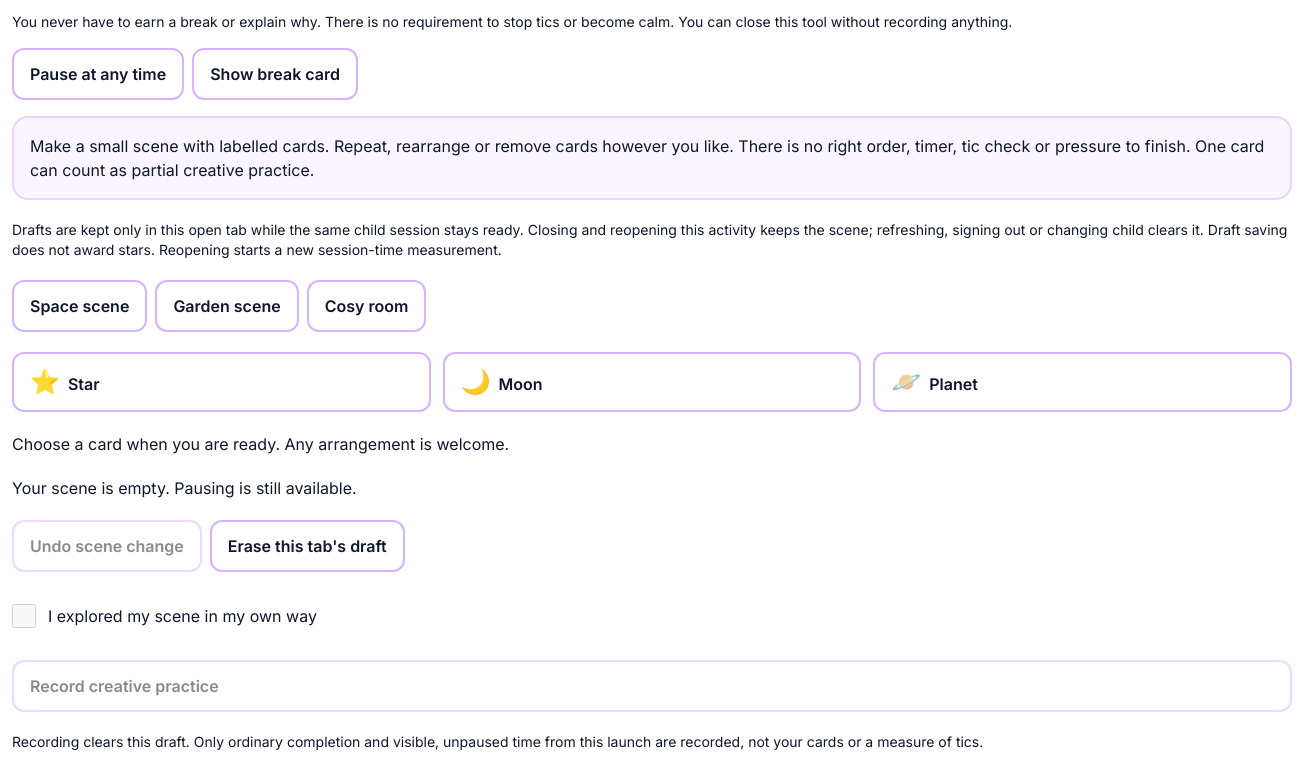
Test: scene changes clear the old layout and undo can restore it without restoring its review
Click the button with aria-label "Add Star".
click(84, 384)  # box x1=12 y1=352 x2=431 y2=412
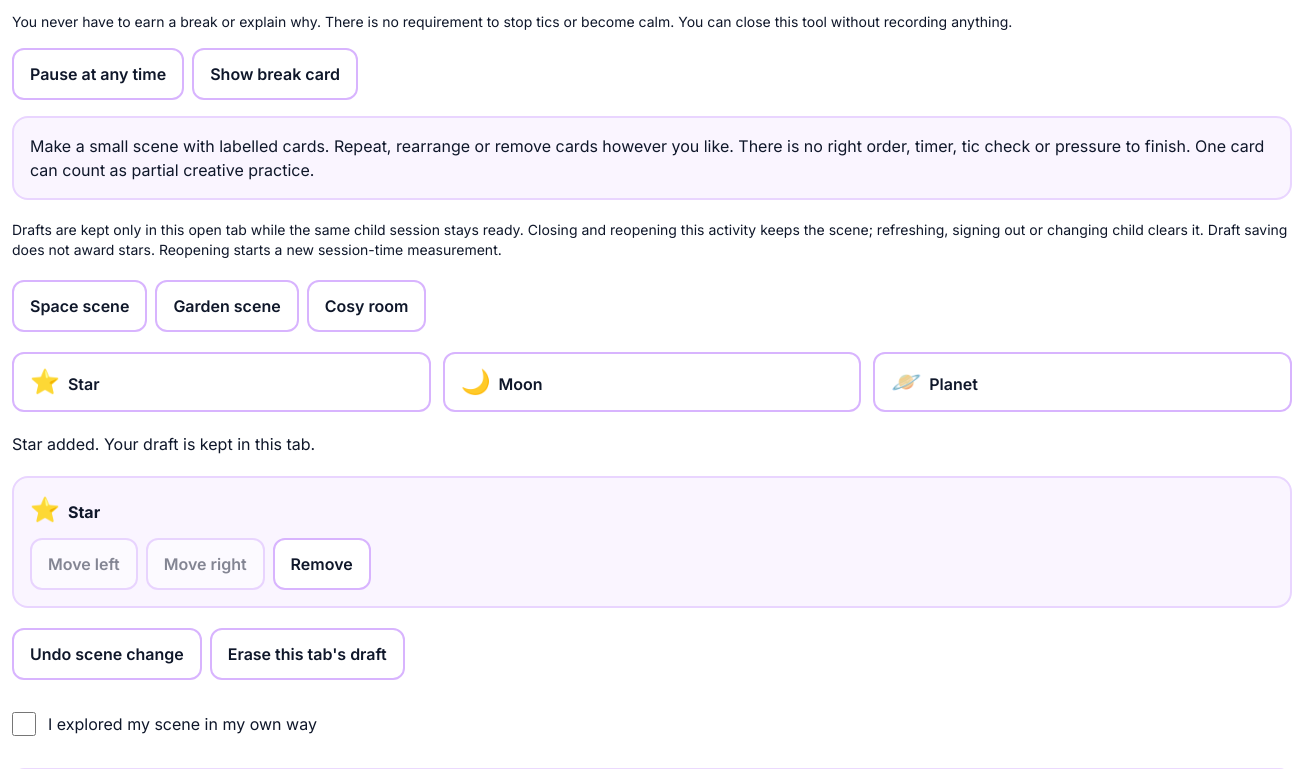
Click the checkbox.
click(24, 724)  # box x1=12 y1=712 x2=36 y2=736
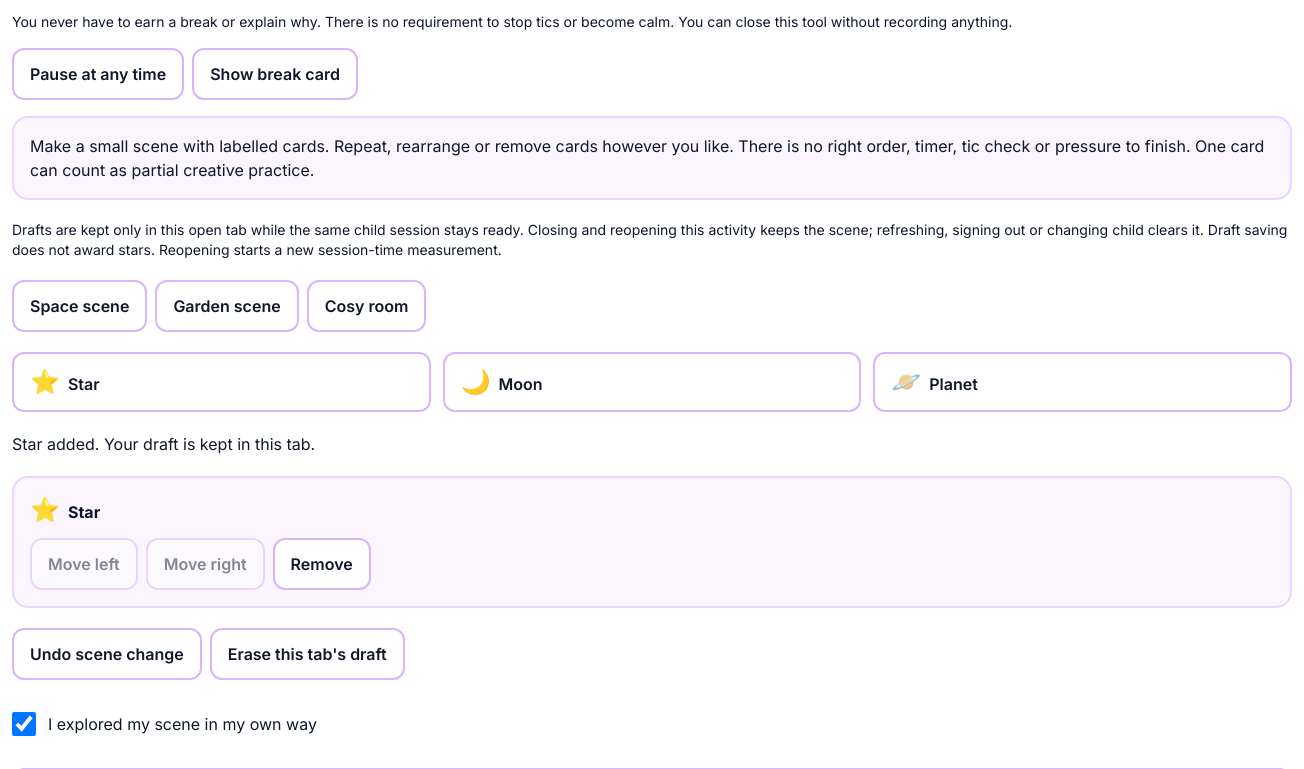
Click the button "Garden scene".
click(227, 306)  # box x1=155 y1=280 x2=299 y2=332
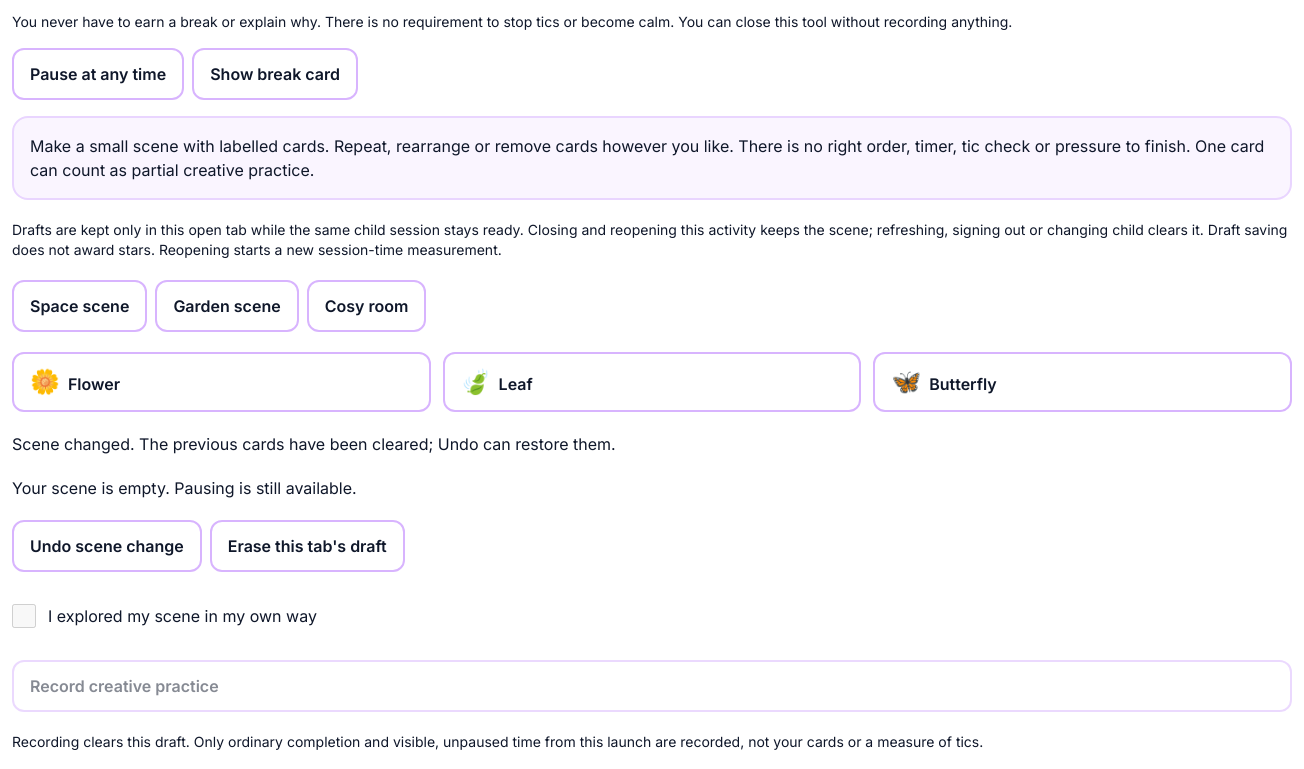
Check: the checkbox is disabled, box x1=12 y1=604 x2=36 y2=628
Click the button "Undo scene change".
click(107, 546)  # box x1=12 y1=520 x2=202 y2=572
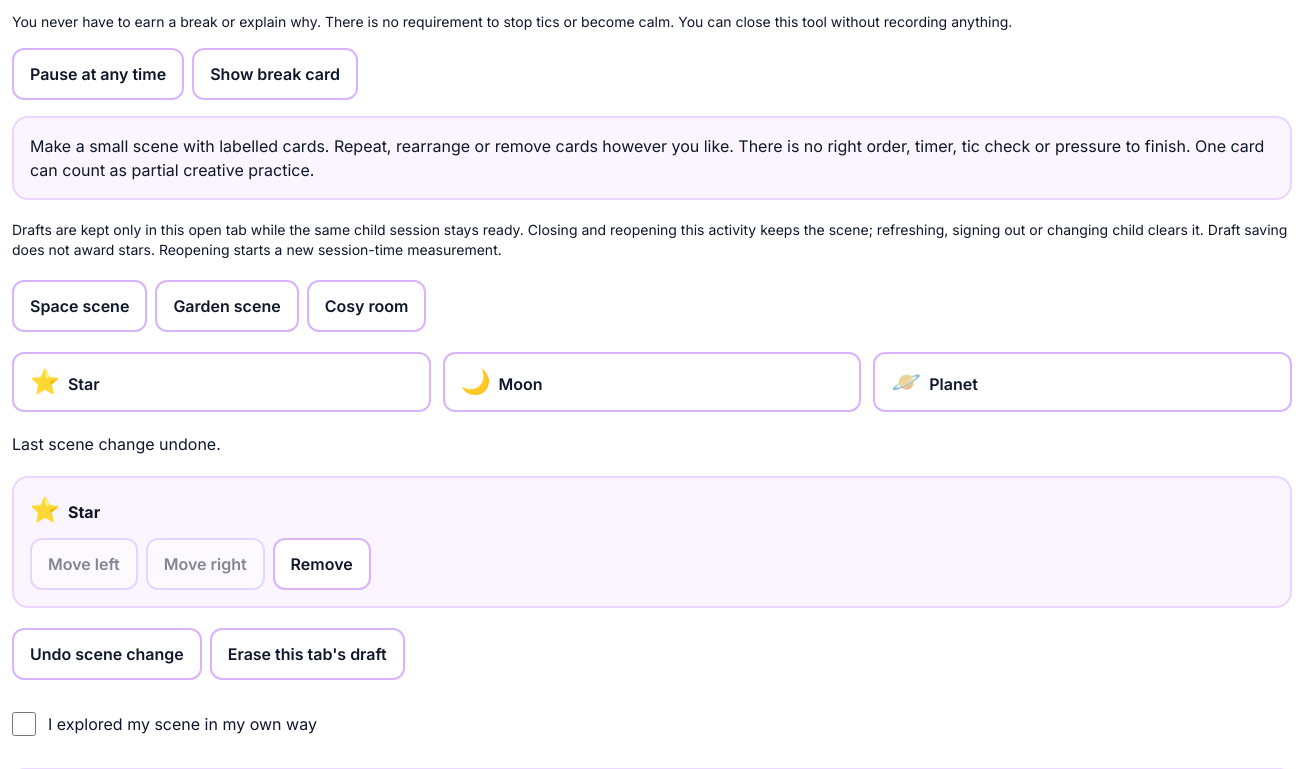
Check: the checkbox is not checked, box x1=12 y1=712 x2=36 y2=736
Check: the button "⭐Star" is shown, box x1=12 y1=352 x2=431 y2=412
